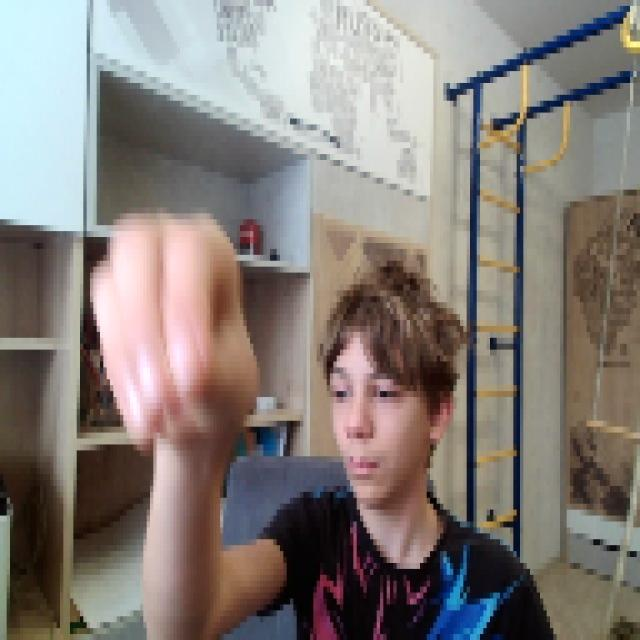left_click: (86, 195, 256, 438)
